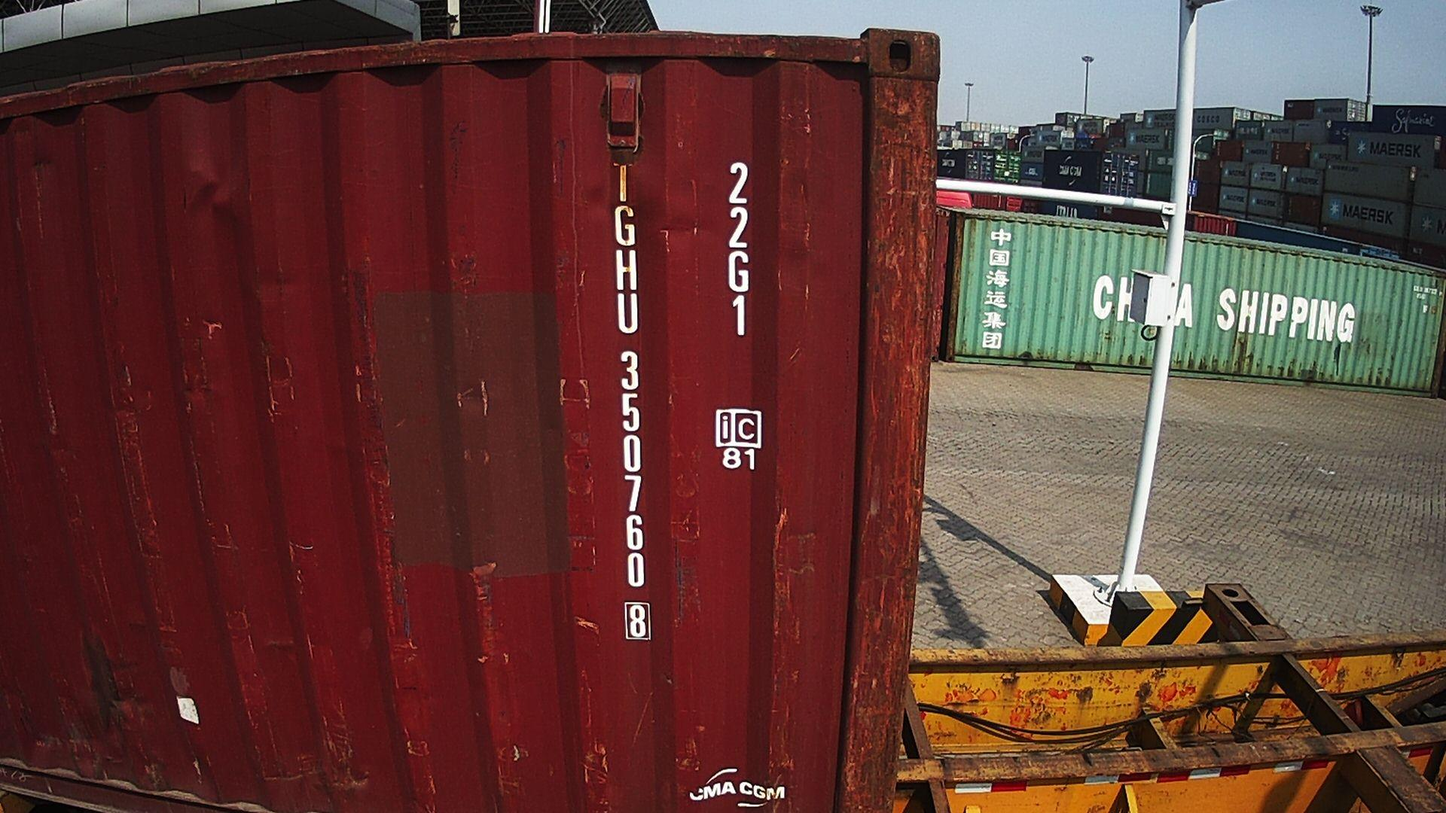container-numbers: (609, 157, 657, 646), (721, 159, 758, 343)
